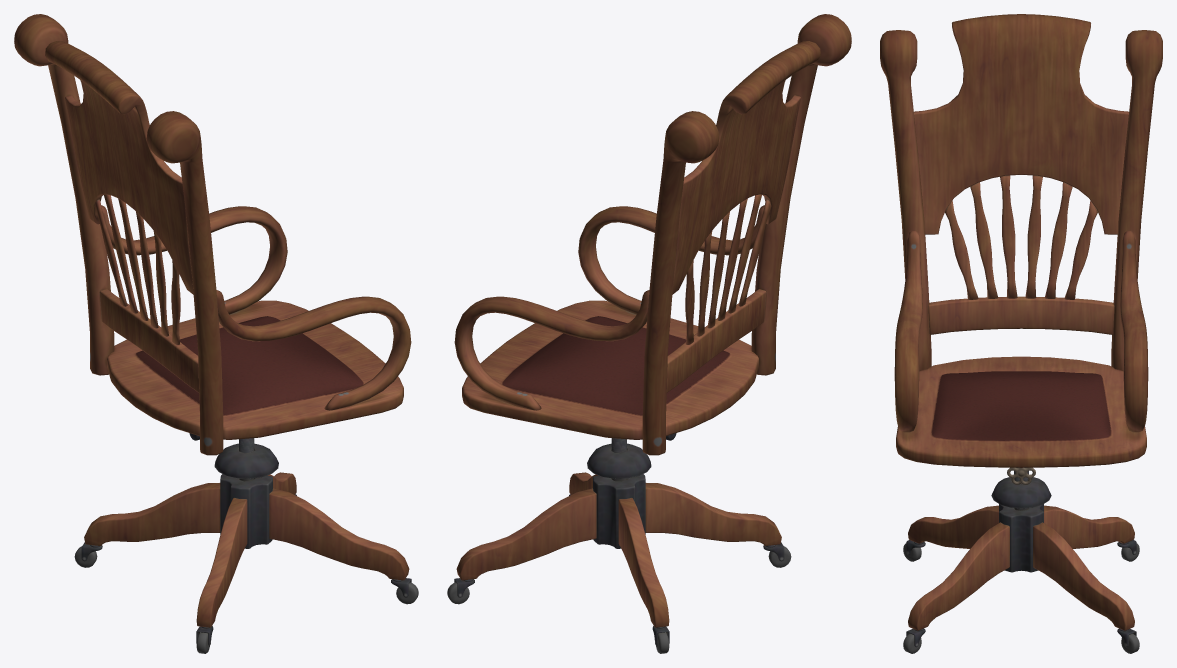
Rendered from chair.glb.
3 views of the same model, side by side, from view 1: azimuth 30°, elevation 25°; view 2: azimuth 150°, elevation 25°; view 3: azimuth 270°, elevation 25° (orthographic). The views are drawn at different scales.
Visible parts, largest first — view 1: chair_low_0; view 2: chair_low_0; view 3: chair_low_0.
Part boxes in pixels (box(x1,y1,x2,y2)): chair_low_0: box(14, 14, 418, 653); chair_low_0: box(447, 14, 851, 653); chair_low_0: box(880, 14, 1162, 653).
Bounding box in the file's own units: 0.6906 × 1.32 × 0.6503.
1 material, 1 textured.
